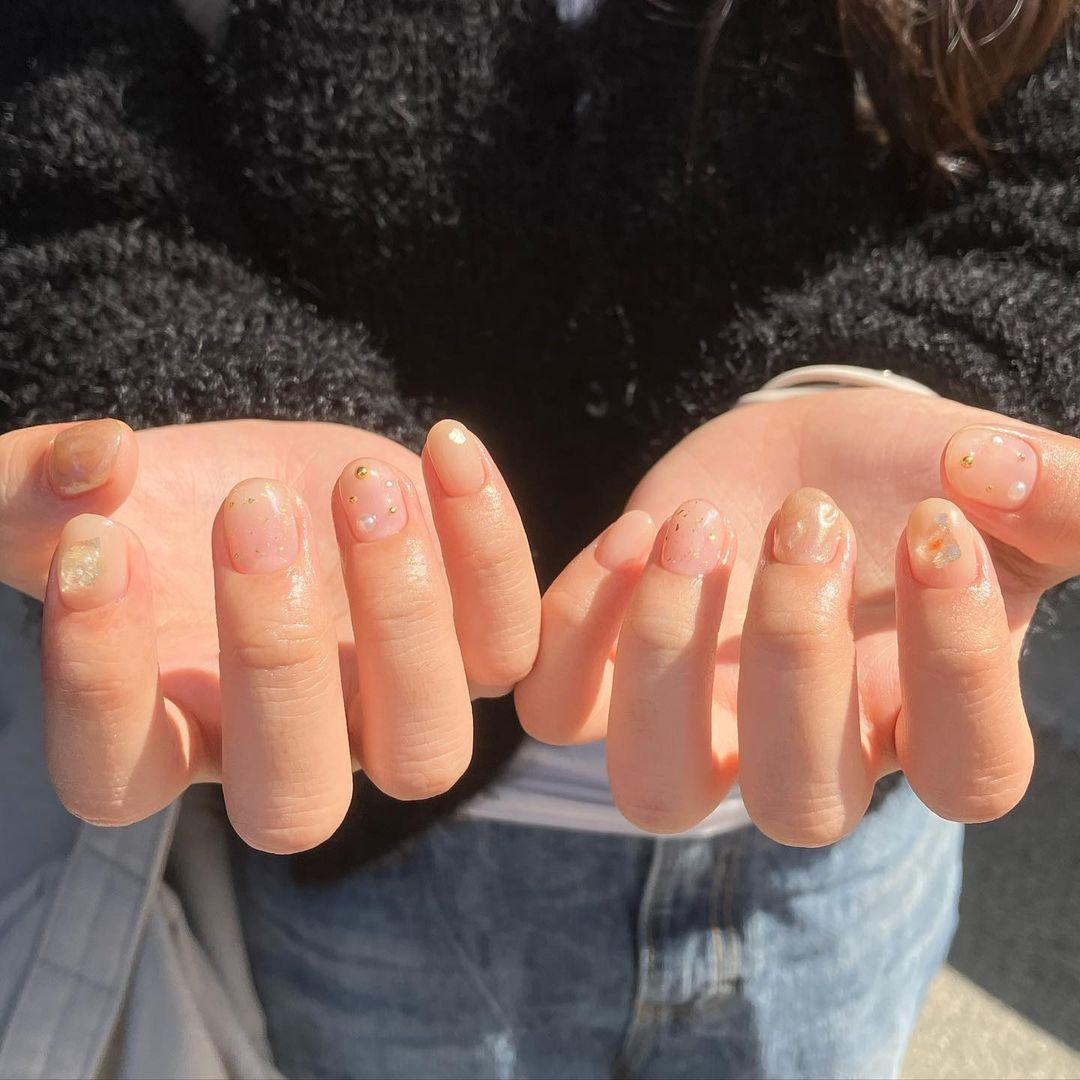nail: (939, 423, 1040, 511), (219, 476, 300, 574), (53, 512, 131, 611), (904, 496, 980, 590), (44, 417, 128, 498), (334, 456, 408, 543), (657, 496, 736, 577), (770, 485, 845, 565), (424, 417, 487, 498), (593, 507, 655, 573)
